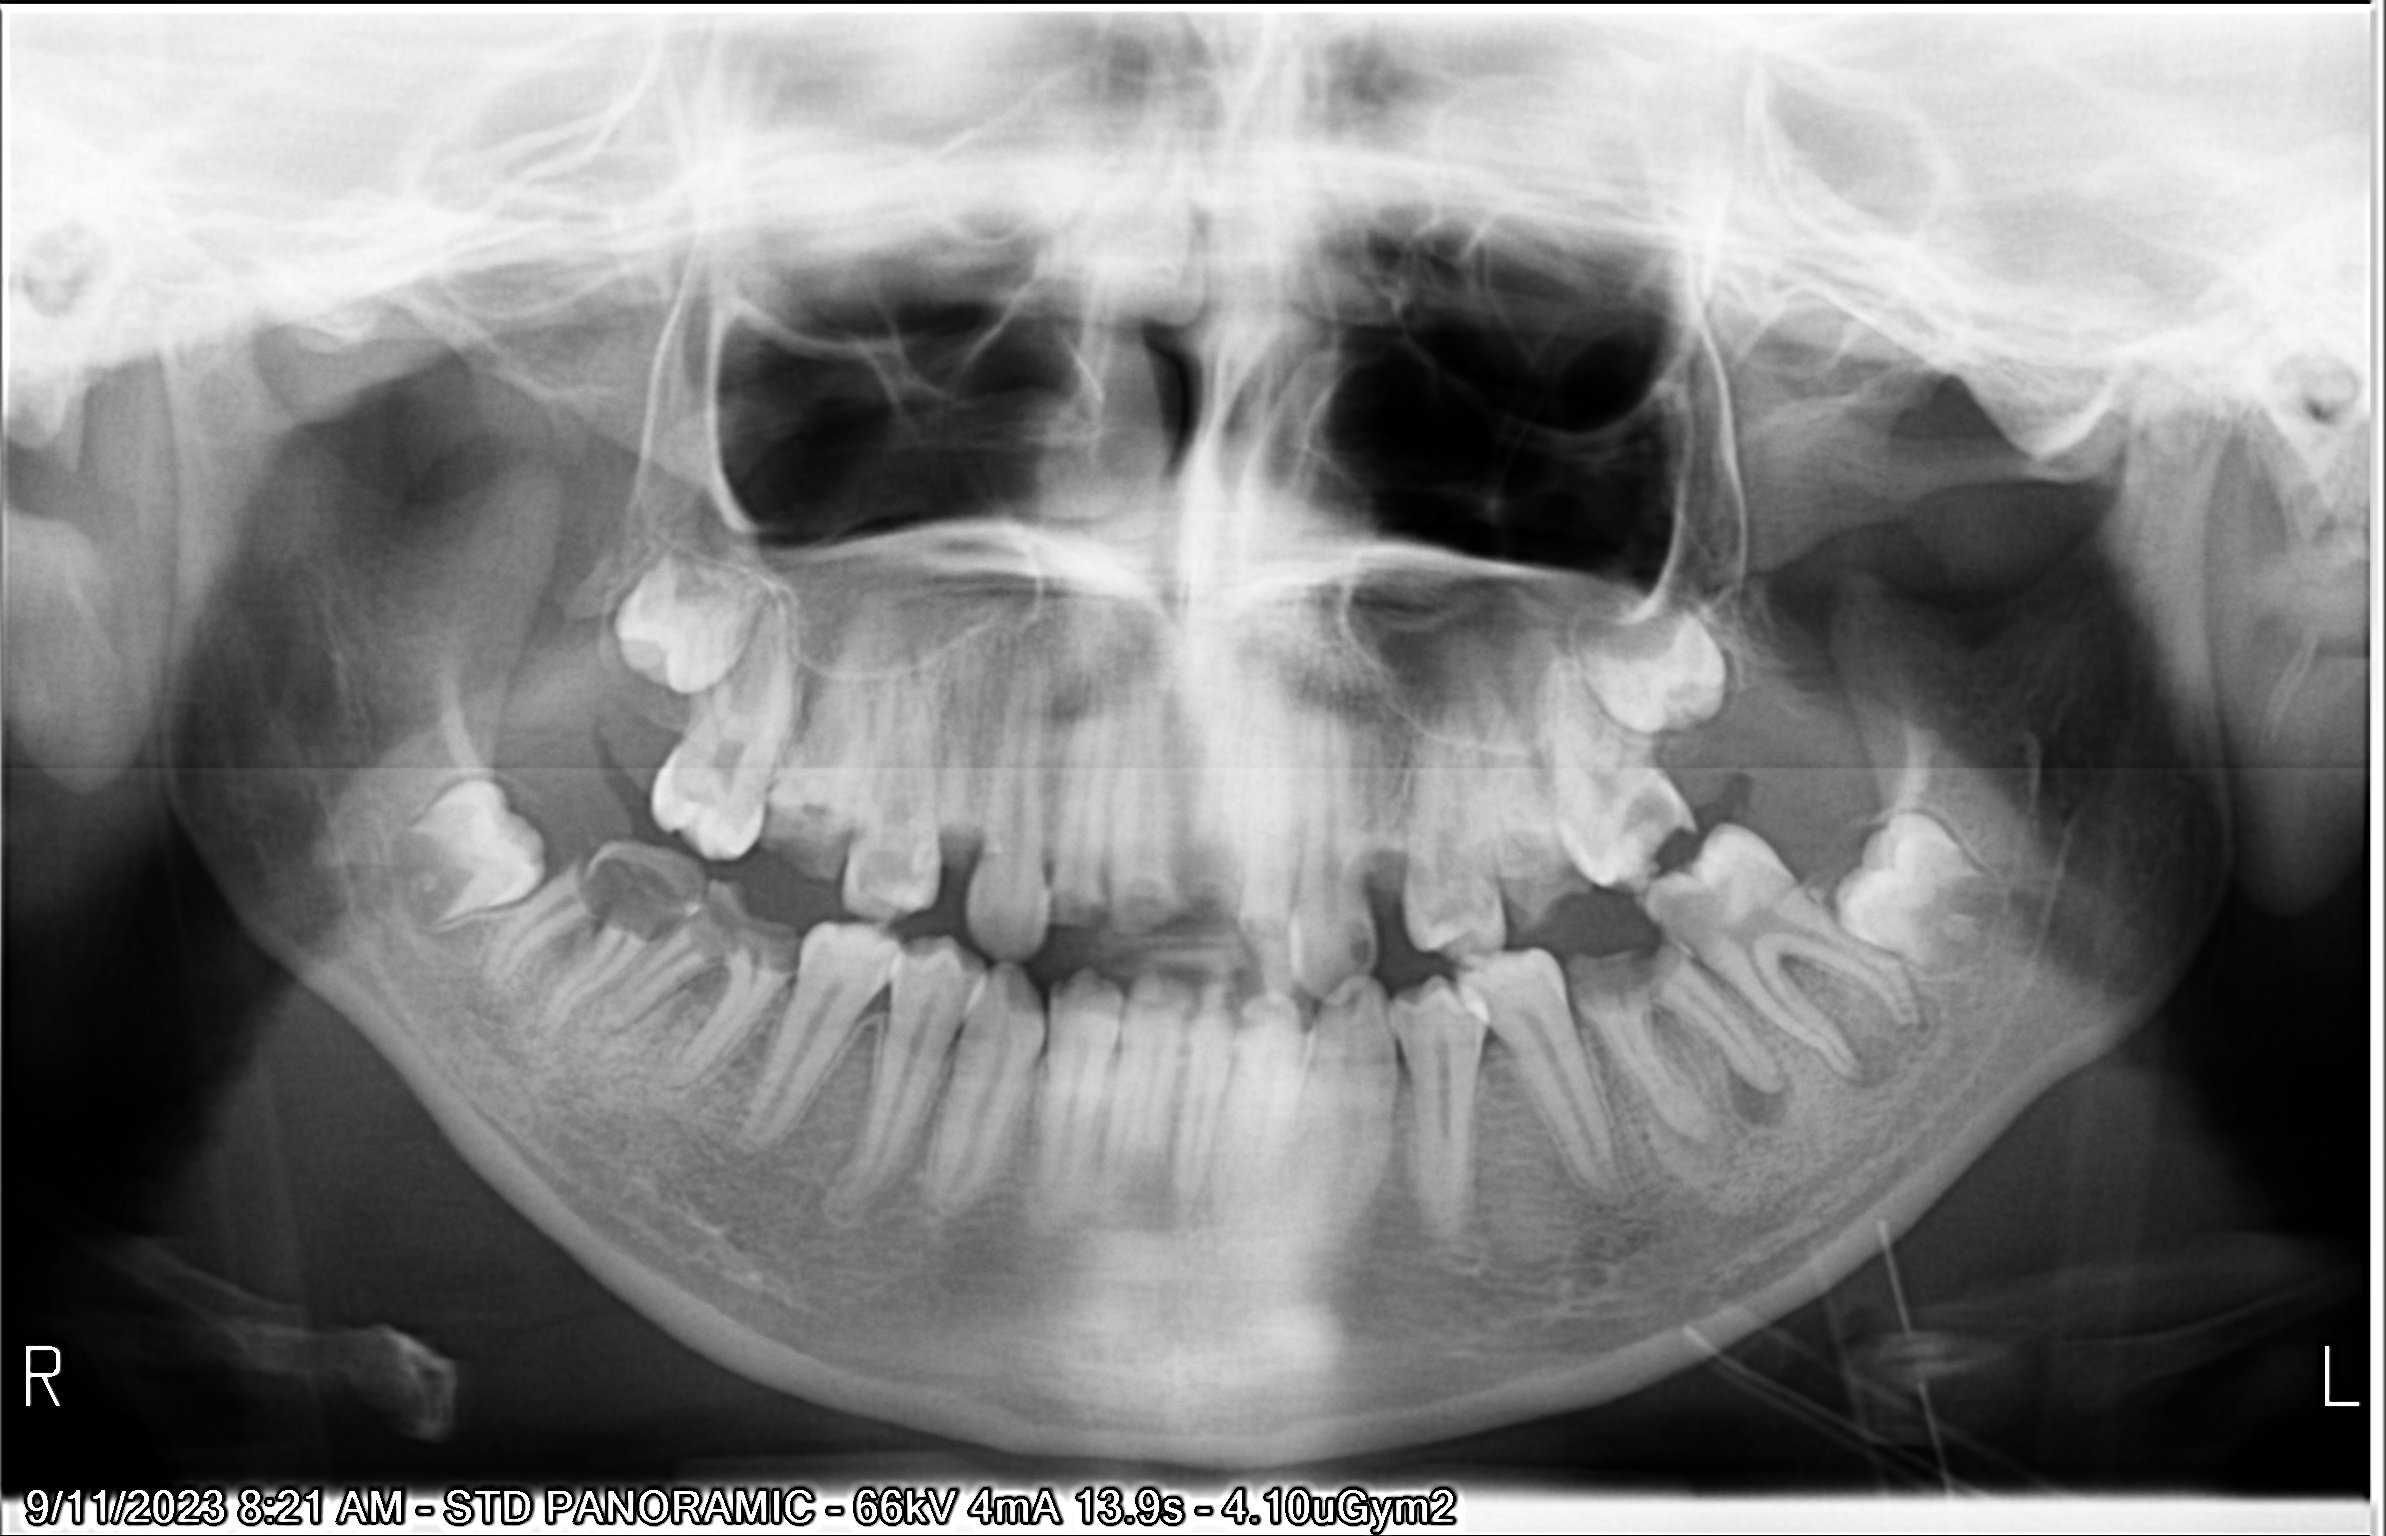API: (438, 943, 551, 1038), (1828, 1019, 1913, 1119), (1715, 1070, 1812, 1148), (496, 990, 583, 1063), (1885, 993, 1958, 1051)
CAR: (558, 844, 711, 939), (673, 870, 791, 990), (1553, 924, 1699, 1002), (741, 797, 861, 875), (1647, 863, 1732, 953), (1614, 760, 1690, 856), (1099, 873, 1184, 938), (1332, 901, 1386, 965), (1050, 885, 1108, 939)
FUR: (645, 941, 763, 1007), (525, 887, 600, 981), (1770, 918, 1817, 1002)
IMT: (1819, 795, 2016, 995), (1550, 581, 1755, 755), (581, 529, 781, 701), (383, 762, 581, 925)
